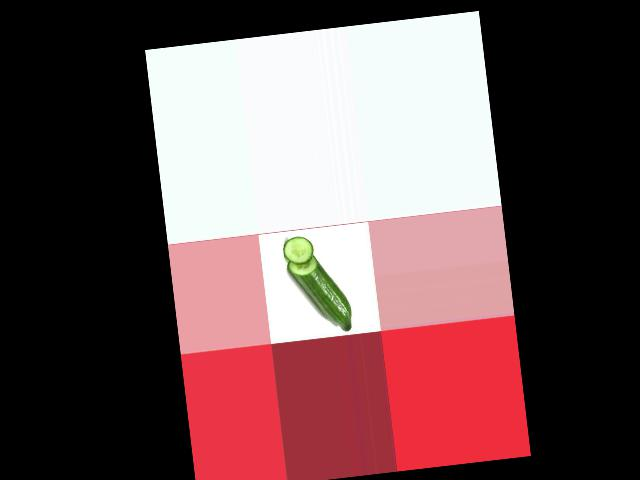cucumber: (286, 250, 353, 337)
